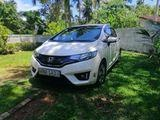car: (29, 21, 124, 91)
